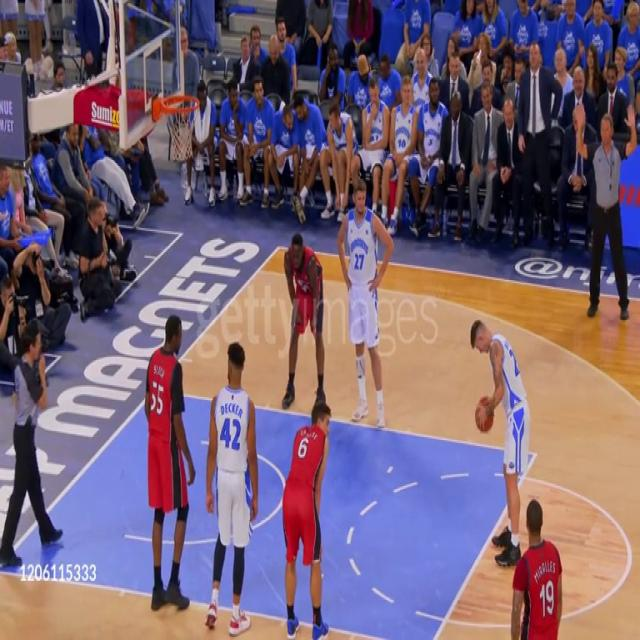ball: (474, 396, 495, 434)
